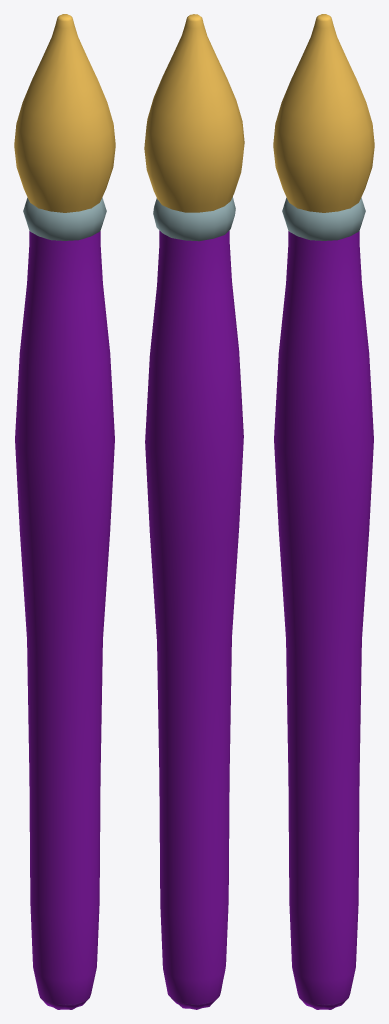
Rendered from brush.fbx.
3 renders of one model, left to right at view 1: azimuth 90°, elevation 25°; view 2: azimuth 210°, elevation 25°; view 3: azimuth 270°, elevation 25°, orthographic.
Visible parts, largest first — view 1: brush; view 2: brush; view 3: brush.
Part boxes in pixels (x1=…): brush: x1=14, y1=14, x2=115, y2=1009; brush: x1=144, y1=14, x2=244, y2=1009; brush: x1=273, y1=14, x2=374, y2=1009.
Size of the model in its own units: 0.3771 by 4.04 by 0.3771.
Materials: 1 (1 with a texture image).
